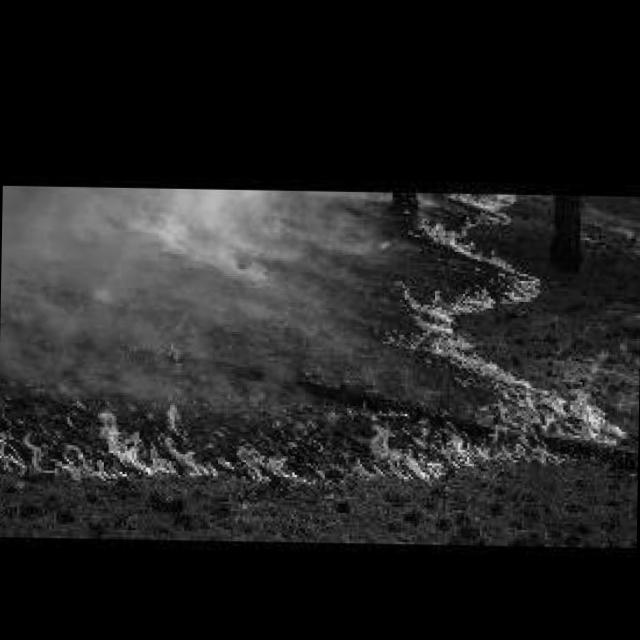fire: (372, 190, 560, 392)
